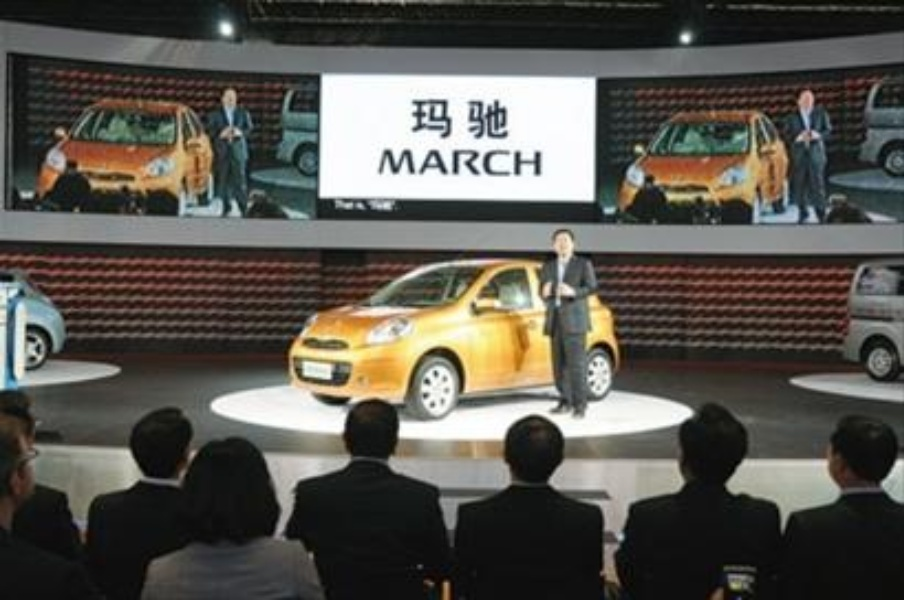text: (417, 98, 432, 142), (433, 98, 448, 142), (449, 98, 464, 142), (465, 98, 480, 142), (481, 98, 496, 142), (529, 146, 545, 177), (497, 98, 508, 142), (385, 146, 400, 177), (401, 146, 416, 177), (417, 146, 432, 177), (433, 146, 448, 177), (449, 146, 464, 177), (465, 146, 480, 177), (481, 146, 496, 177), (497, 146, 512, 177), (513, 146, 528, 177), (411, 98, 416, 142), (378, 146, 384, 177)
